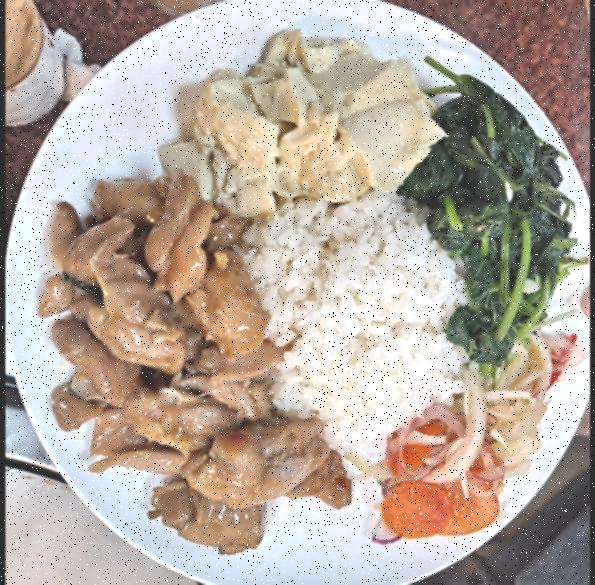big fried chicken leg: (8, 3, 584, 585)
big herbal chicken leg: (246, 204, 470, 447)
braised fish fillet: (172, 24, 442, 214), (412, 88, 584, 349), (382, 328, 572, 546)
braised pork: (37, 185, 327, 541)
